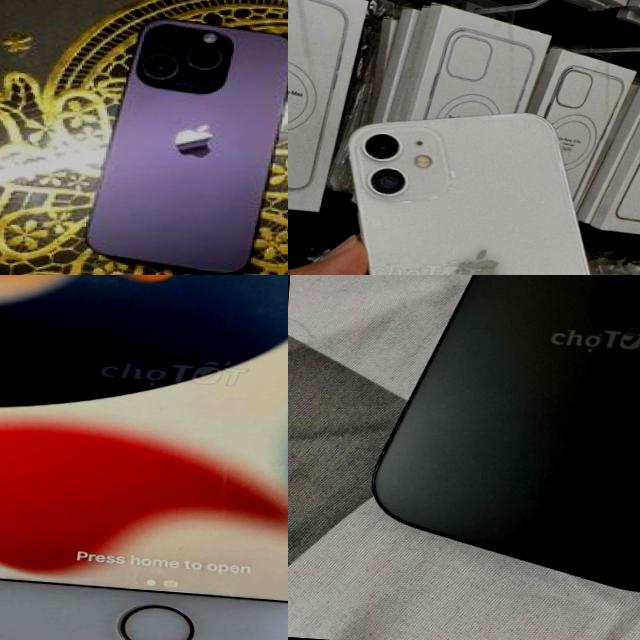scratch: (204, 448, 231, 510)
